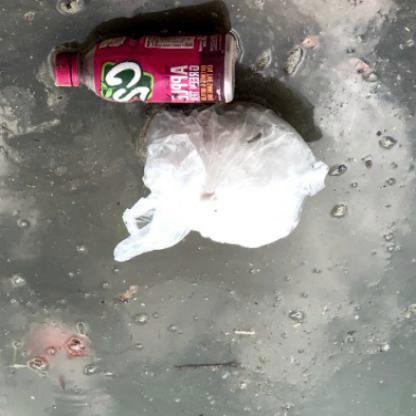Plastic: (51, 18, 240, 112)
Trash: (106, 92, 330, 265)
